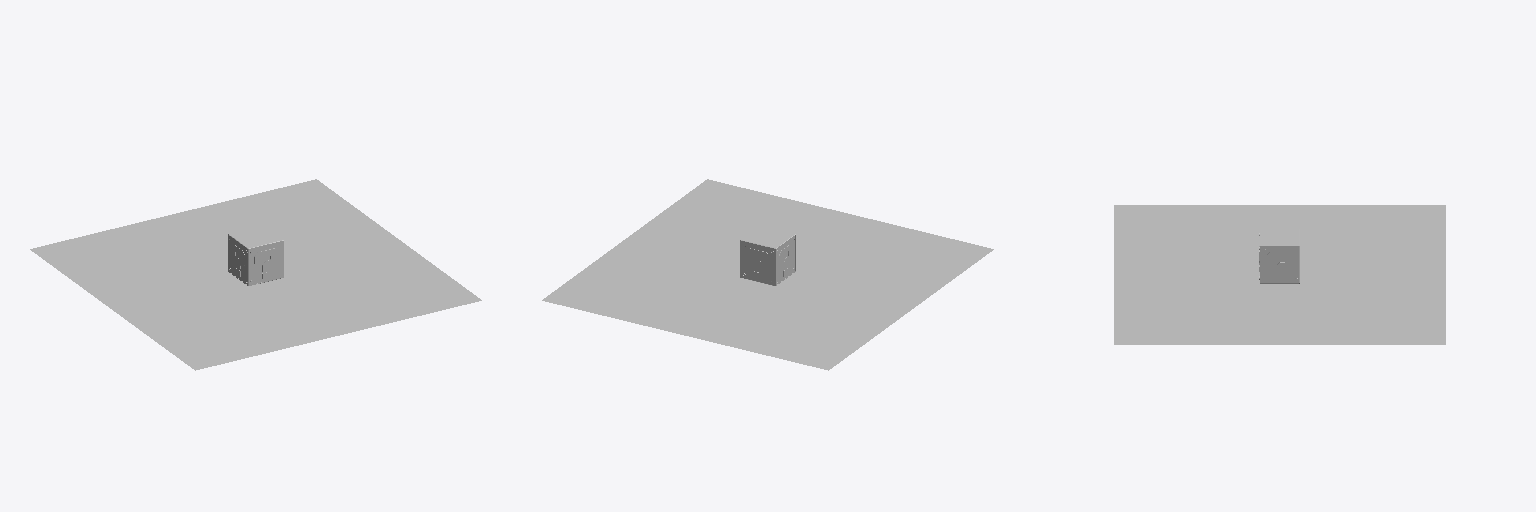
File: Question box1.obj
3 renders of one model, left to right at view 1: azimuth 30°, elevation 25°; view 2: azimuth 150°, elevation 25°; view 3: azimuth 270°, elevation 25°, orthographic.
Visible parts, largest first — view 1: Plane, Box_Cube.001; view 2: Plane, Box_Cube.001; view 3: Plane, Box_Cube.001.
Boxes of the visible parts, x1,y1,x2,y2 form: Plane: [30, 179, 481, 370]; Box_Cube.001: [228, 226, 283, 285]; Plane: [542, 179, 993, 370]; Box_Cube.001: [740, 226, 795, 285]; Plane: [1114, 205, 1445, 344]; Box_Cube.001: [1260, 228, 1299, 283].
Size of the model in its own units: 25 by 3.15 by 25.